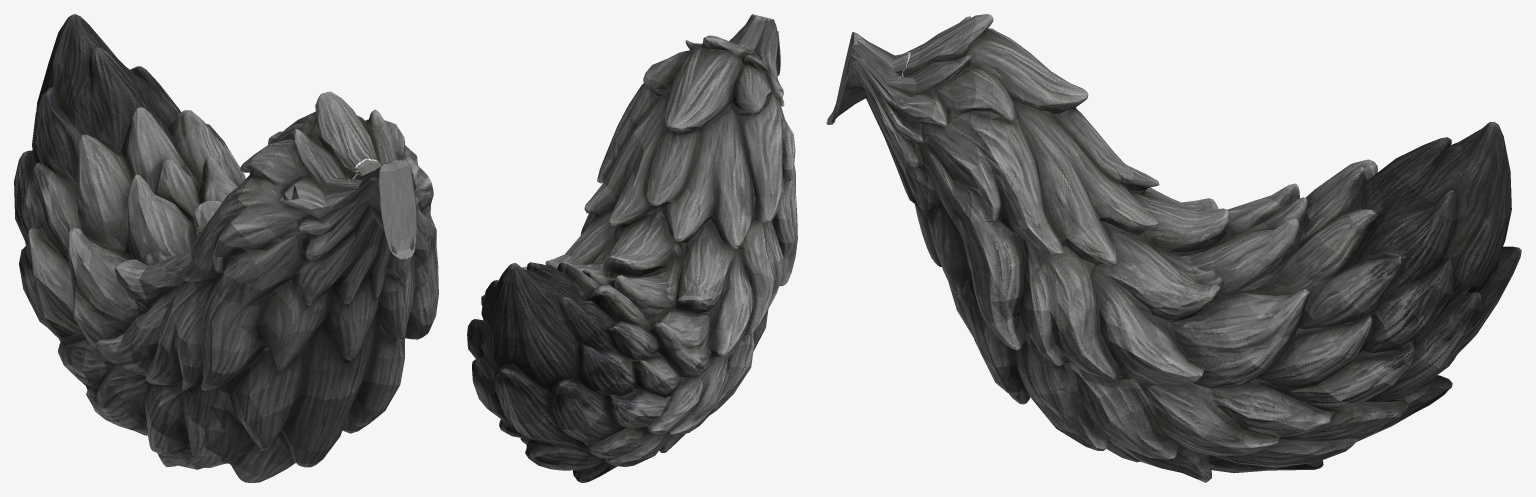
Rendered from ewm_wolftail.glb.
The picture shows the model from 3 angles, left to right: view 1: azimuth 30°, elevation 25°; view 2: azimuth 150°, elevation 25°; view 3: azimuth 270°, elevation 25°; orthographic projection. The views are drawn at different scales.
Parts seen in each view (by area): view 1: ewm_wolftail; view 2: ewm_wolftail; view 3: ewm_wolftail.
Boxes of the visible parts, box(x1,y1,x2,y2) form: ewm_wolftail: box(14, 14, 438, 482); ewm_wolftail: box(467, 14, 797, 482); ewm_wolftail: box(826, 14, 1521, 482).
Bounding box in the file's own units: 0.2279 × 0.3947 × 0.55.
Materials: 1 (1 with a texture image).
